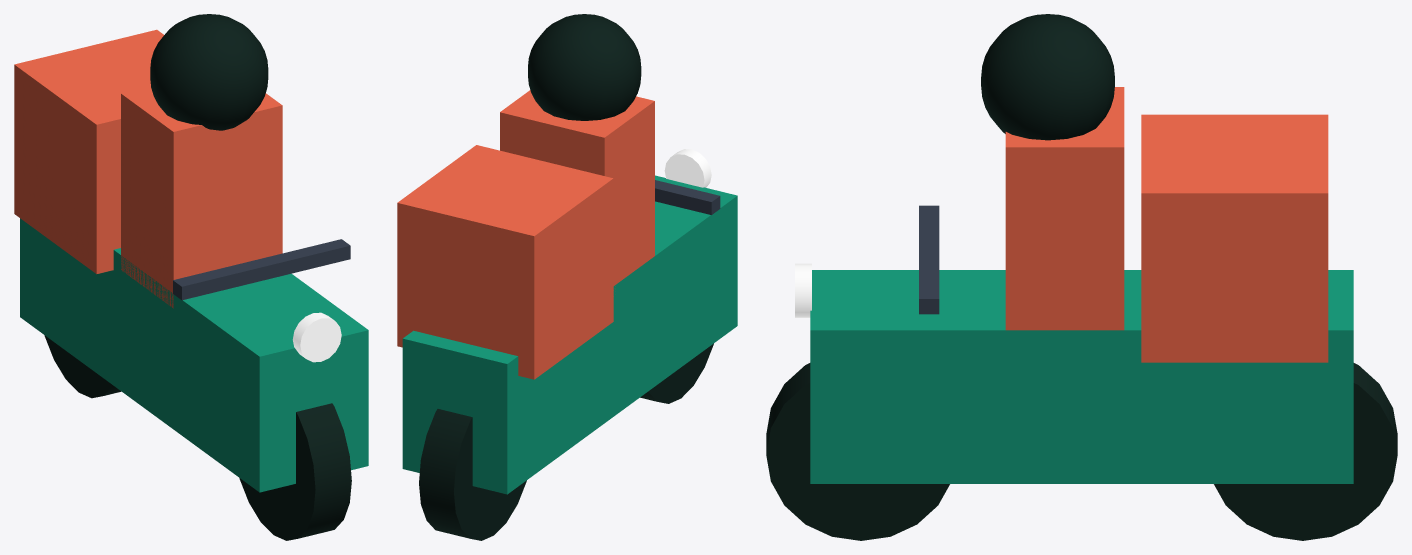
File: bike.glb
3 views of the same model, side by side, from view 1: azimuth 30°, elevation 25°; view 2: azimuth 150°, elevation 25°; view 3: azimuth 270°, elevation 25° (orthographic). The views are drawn at different scales.
Visible parts, largest first — view 1: BikeFrame, RiderTorso, CargoBox, RiderHelmet, FrontWheel, Handlebars, Headlight, RearWheel; view 2: BikeFrame, CargoBox, RiderTorso, RiderHelmet, RearWheel, FrontWheel, Handlebars, Headlight; view 3: BikeFrame, CargoBox, RiderTorso, RiderHelmet, FrontWheel, RearWheel, Handlebars, Headlight.
Part boxes in pixels (x1,y1,x2,y2): BikeFrame: (20,218,368,492); RiderTorso: (121,86,282,308); CargoBox: (14,29,163,273); RiderHelmet: (150,14,268,130); FrontWheel: (239,403,351,540); Handlebars: (173,239,350,300); Headlight: (292,312,341,362); RearWheel: (44,335,121,398); BikeFrame: (402,175,737,494); CargoBox: (397,145,613,379); RiderTorso: (500,90,654,286); RiderHelmet: (528,14,641,120); RearWheel: (419,409,526,540); FrontWheel: (640,343,713,403); Handlebars: (655,180,720,214); Headlight: (664,149,711,187); BikeFrame: (810,270,1353,483); CargoBox: (1141,114,1328,362); RiderTorso: (1005,87,1124,330); RiderHelmet: (981,14,1114,140); FrontWheel: (766,363,949,540); RearWheel: (1214,363,1397,540); Handlebars: (919,205,939,314); Headlight: (795,263,811,317).
Size of the model in its own units: 0.65 by 1.66 by 1.86.
